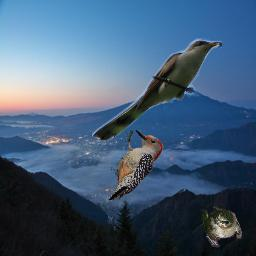Cuckoo: (92, 38, 222, 140)
Swallow: (195, 206, 242, 248)
Woodpecker: (109, 130, 163, 200)
